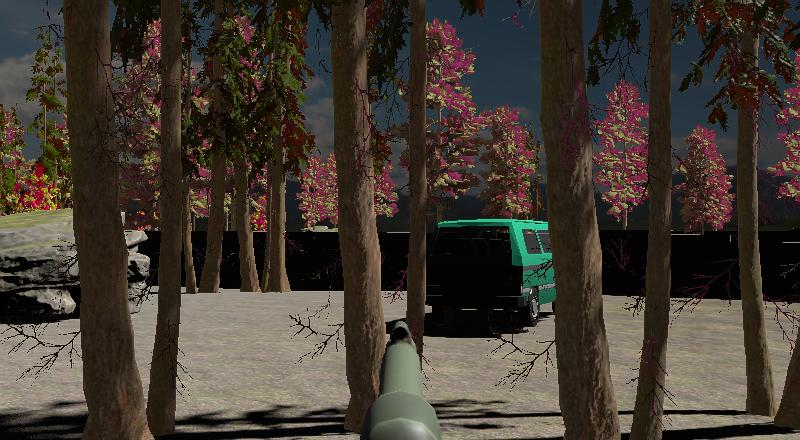car: (424, 217, 557, 332)
